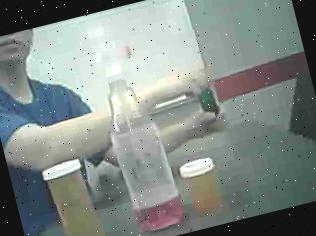Bottle A: (38, 153, 116, 236)
Bottle B: (179, 150, 230, 221)
Bottle C: (186, 67, 236, 131)
hazard: (86, 33, 191, 236)
